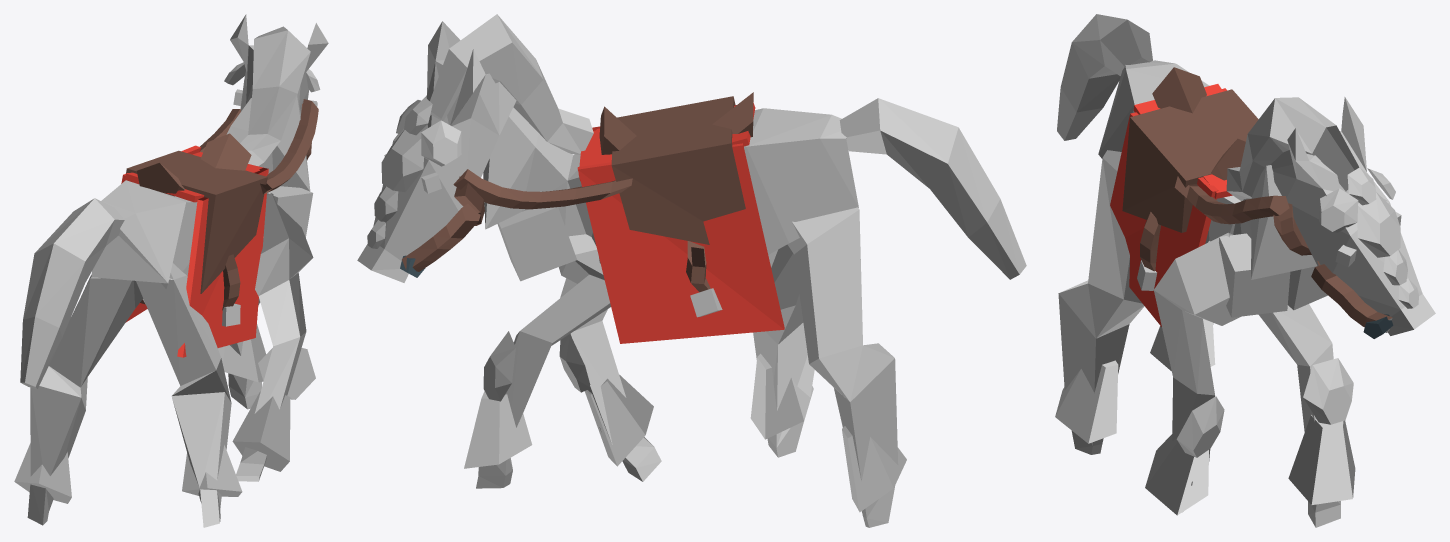
The picture shows the model from 3 angles, left to right: view 1: azimuth 30°, elevation 25°; view 2: azimuth 150°, elevation 25°; view 3: azimuth 270°, elevation 25°; orthographic projection. The views are drawn at different scales.
Bounding box in the file's own units: 1.49 × 1.37 × 1.04.
